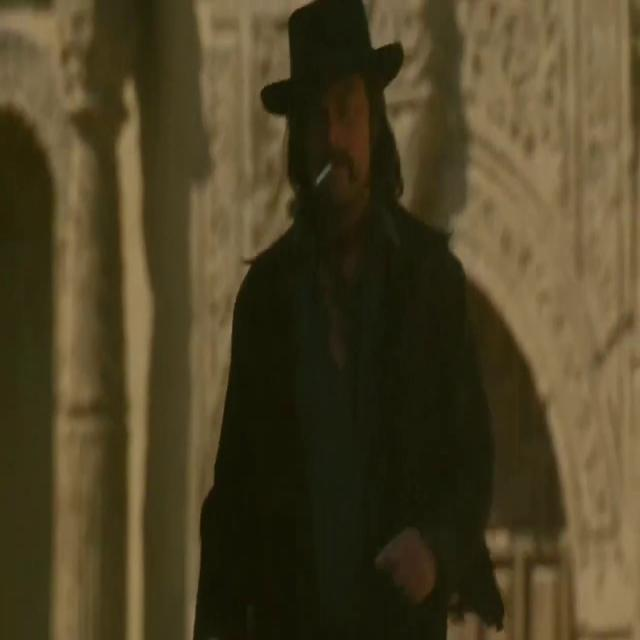Smooking: (310, 154, 336, 196)
